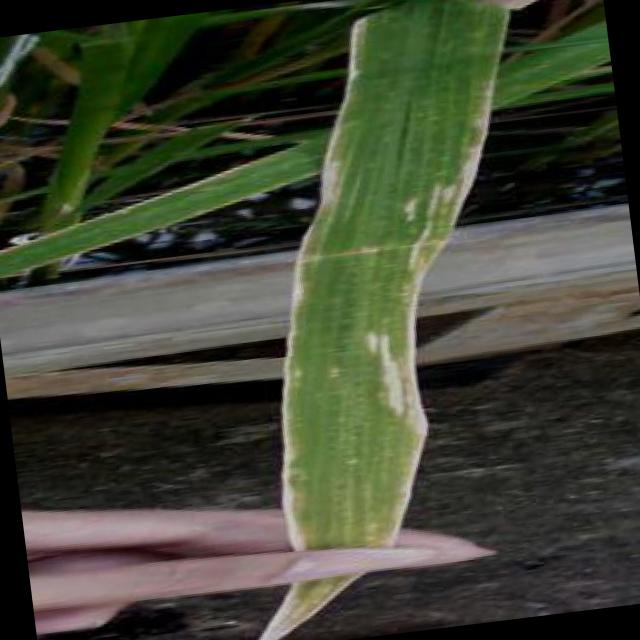Rice_Bacterial_Blight: (242, 196, 440, 554)
